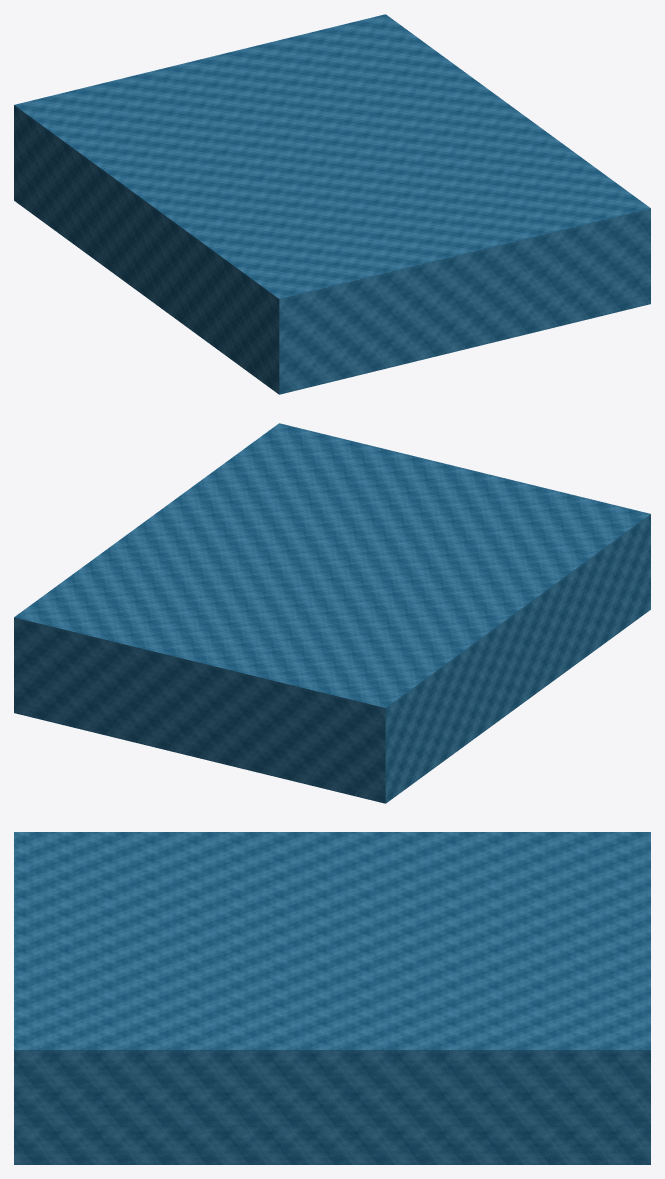
The model's file is IceRegion_Floor.fbx.
The picture shows the model from 3 angles, top to bottom: view 1: azimuth 30°, elevation 25°; view 2: azimuth 150°, elevation 25°; view 3: azimuth 270°, elevation 25°; orthographic projection. The views are drawn at different scales.
Parts seen in each view (by area): view 1: WO_IceRegion_Floor_LOD0; view 2: WO_IceRegion_Floor_LOD0; view 3: WO_IceRegion_Floor_LOD0.
Boxes of the visible parts, left/top/right/bottom form: WO_IceRegion_Floor_LOD0: left=14, top=14, right=650, bottom=394; WO_IceRegion_Floor_LOD0: left=14, top=423, right=650, bottom=803; WO_IceRegion_Floor_LOD0: left=14, top=832, right=650, bottom=1164.
Size of what is drawn, in the model's own units: 6 by 1.48 by 7.42.
